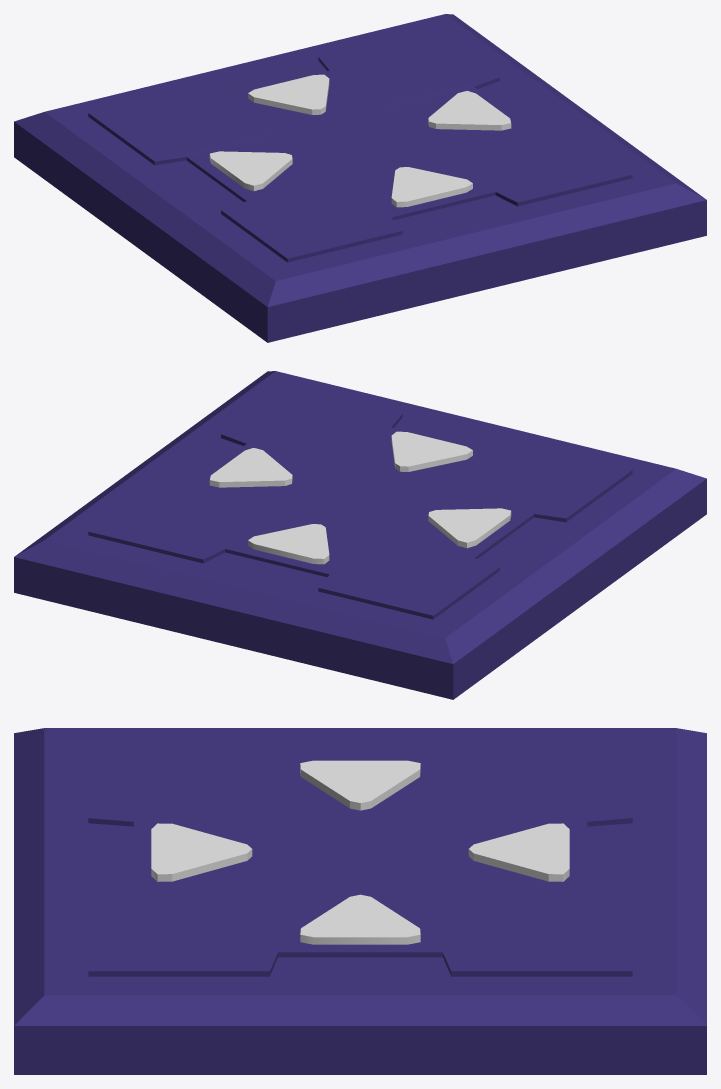
File: bouncePadH 1.fbx
The picture shows the model from 3 angles, top to bottom: view 1: azimuth 30°, elevation 25°; view 2: azimuth 150°, elevation 25°; view 3: azimuth 270°, elevation 25°; orthographic projection. The views are drawn at different scales.
Visible parts, largest first — view 1: Cube.009, Cube.013; view 2: Cube.009, Cube.013; view 3: Cube.009, Cube.013.
Boxes of the visible parts, left/top/right/bottom form: Cube.009: left=14, top=14, right=706, bottom=342; Cube.013: left=209, top=74, right=511, bottom=207; Cube.009: left=14, top=371, right=706, bottom=699; Cube.013: left=209, top=431, right=511, bottom=564; Cube.009: left=14, top=728, right=706, bottom=1074; Cube.013: left=151, top=760, right=569, bottom=944.
Bounding box in the file's own units: 200 × 25.34 × 200.
